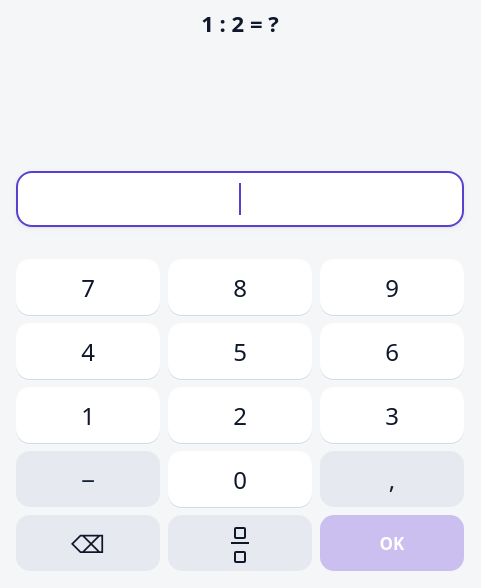
Test: QuestionView › fraction input › rejects a zero denominator inline
Click the button named "breuk": point(240, 543) top-left (168, 515), bottom-right (312, 571)
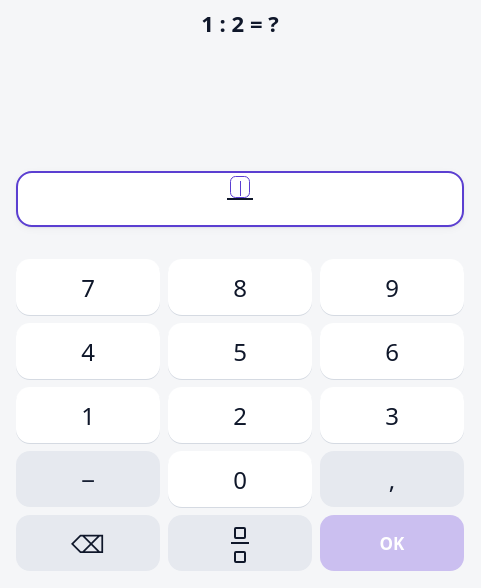
Click the button "1": point(88, 415) top-left (16, 387), bottom-right (160, 443)
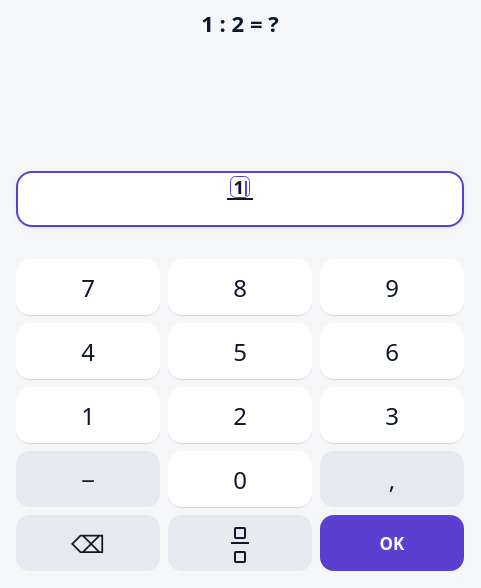
Click the button named "breuk": point(240, 543) top-left (168, 515), bottom-right (312, 571)
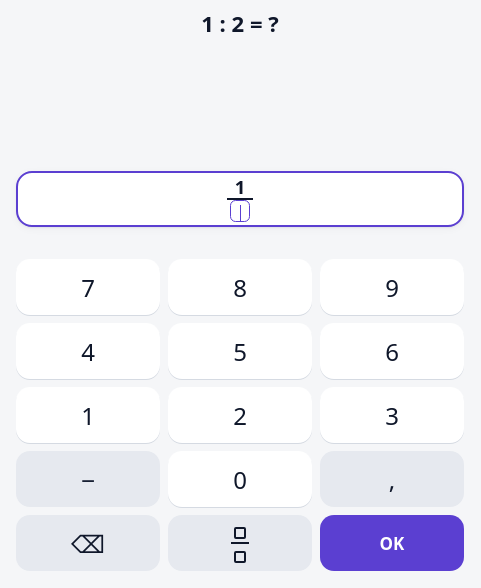
Click the button "0": point(240, 479) top-left (168, 451), bottom-right (312, 507)
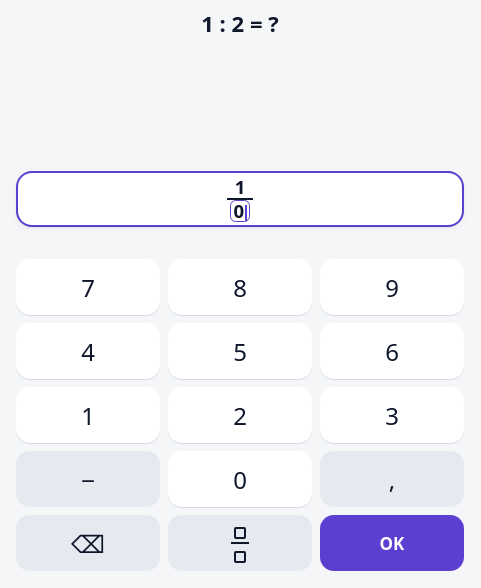
Click the button "OK": point(392, 543) top-left (320, 515), bottom-right (464, 571)
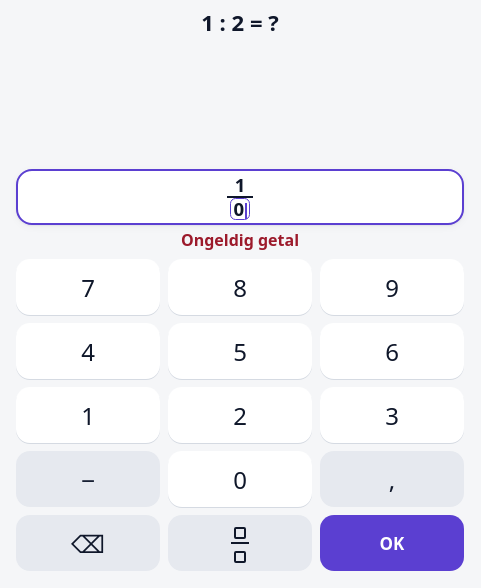
Now the message reads "Ongeldig getal", box top-left (181, 229), bottom-right (299, 251)
